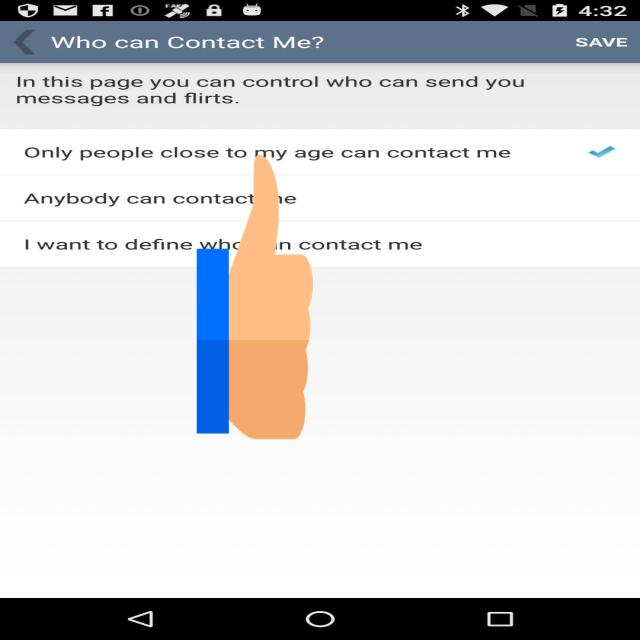privacy zuckering: (197, 148, 313, 446)
